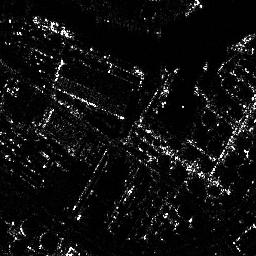ship: (34, 12, 76, 41)
